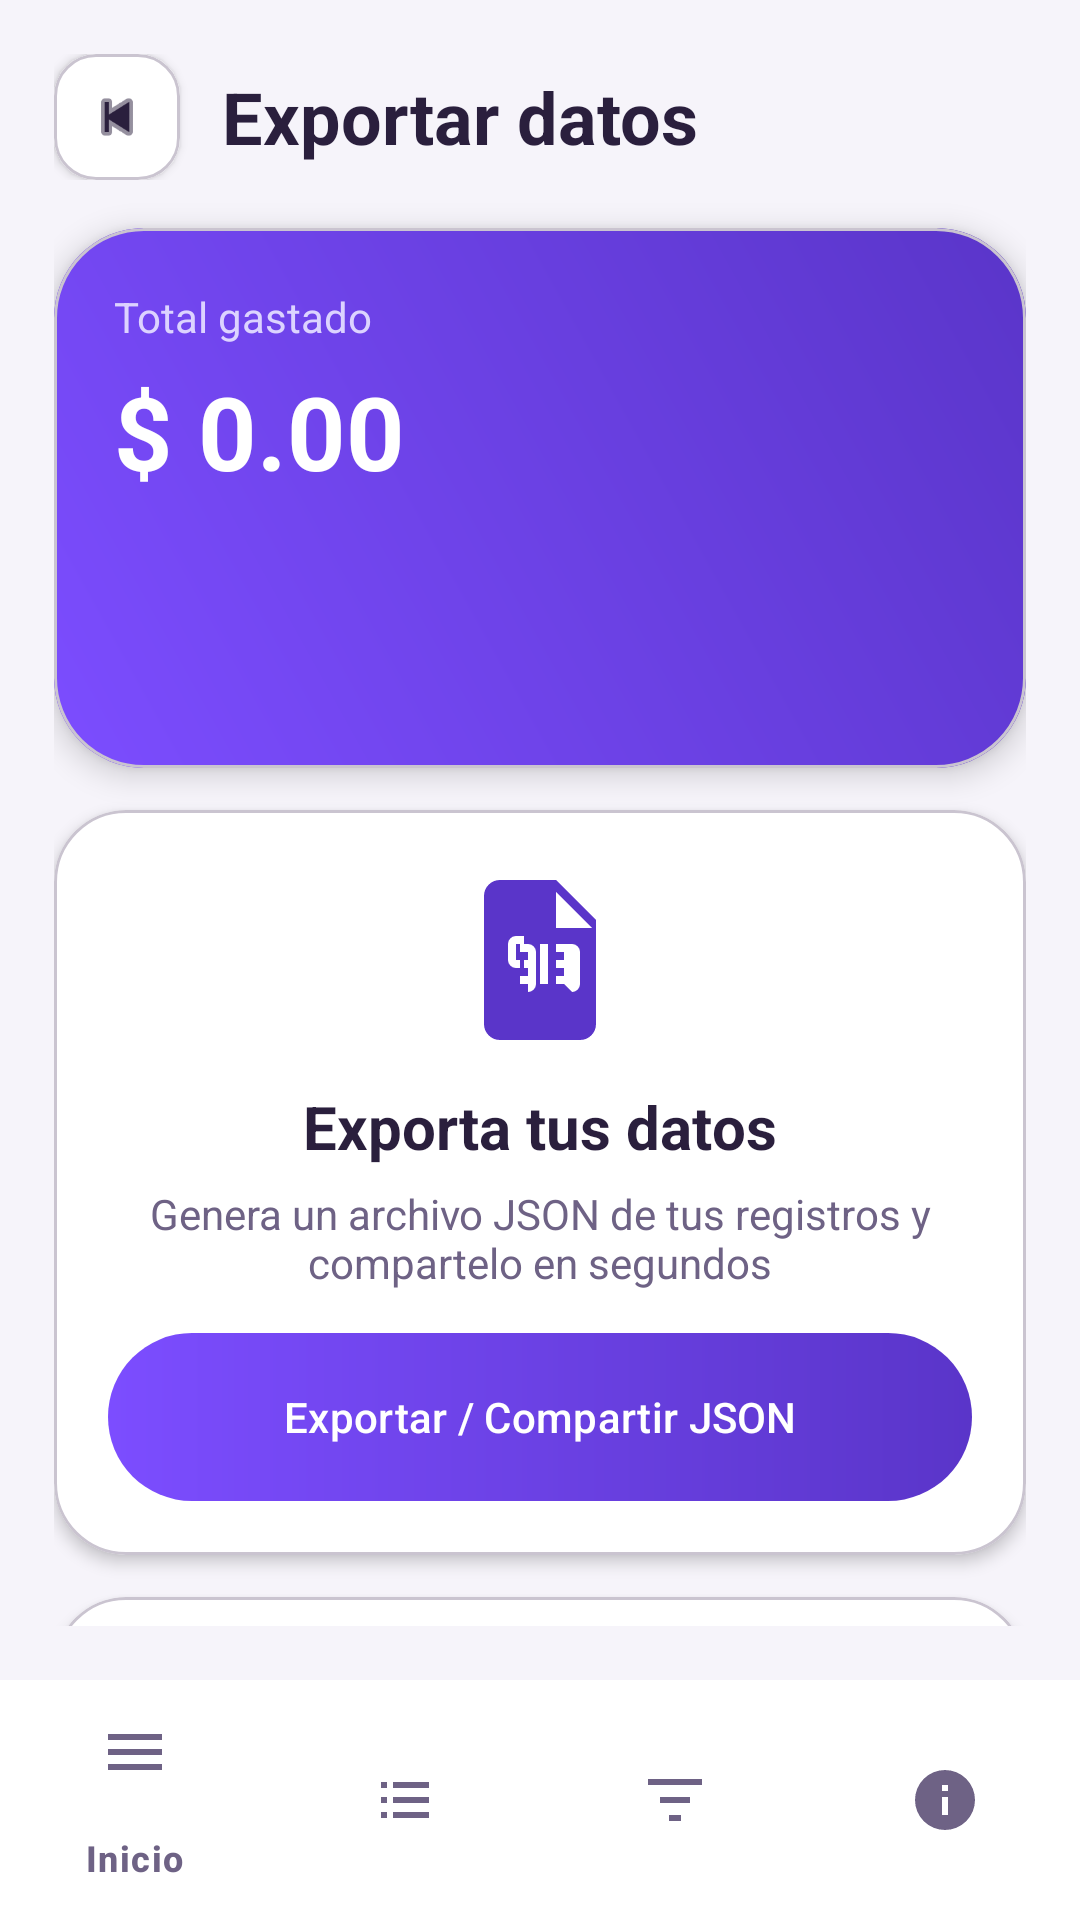

Where to tap for icons on this 1080px×1920px app screen, as point (x, y):
json file: point (540, 960)
previous: point (117, 117)
